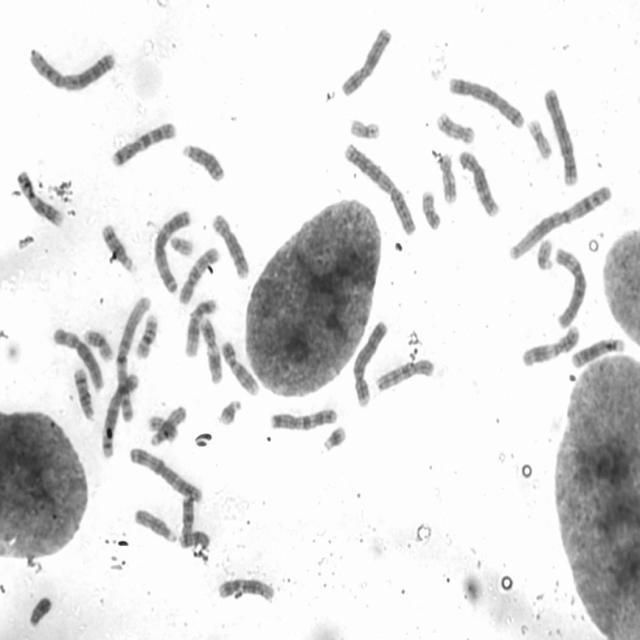A1: (504, 179, 614, 261), (114, 292, 153, 424)
A2: (341, 138, 418, 237), (23, 41, 118, 92)
A3: (125, 442, 205, 503), (150, 204, 193, 294)
B4: (541, 83, 580, 186), (350, 316, 390, 408)
B5: (446, 72, 526, 130), (98, 367, 140, 460)
C10: (175, 242, 221, 306), (373, 354, 436, 393)
C11: (518, 321, 582, 368), (198, 314, 225, 385)
C12: (182, 294, 220, 358), (215, 573, 277, 603)
C6: (49, 322, 106, 393), (550, 242, 590, 330)
C7: (109, 116, 178, 168), (267, 402, 339, 432)
C8: (455, 145, 501, 219), (210, 209, 252, 280)
C9: (14, 165, 66, 227), (218, 336, 262, 397)
D13: (179, 138, 227, 183), (568, 333, 626, 369)
D14: (99, 218, 138, 274), (71, 363, 96, 421)
D15: (147, 400, 189, 447), (132, 504, 180, 544)
E16: (133, 308, 160, 361), (82, 324, 115, 363)
E17: (433, 108, 477, 146), (437, 149, 459, 205)
E18: (178, 491, 196, 548), (176, 526, 212, 550)
F19: (524, 114, 554, 160), (347, 114, 382, 140)
F20: (418, 185, 443, 232), (145, 411, 179, 444)
G21: (320, 421, 349, 453), (216, 395, 243, 427)
G22: (534, 234, 556, 272), (167, 231, 196, 257)
X: (338, 22, 393, 97)
Y: (26, 590, 54, 628)
